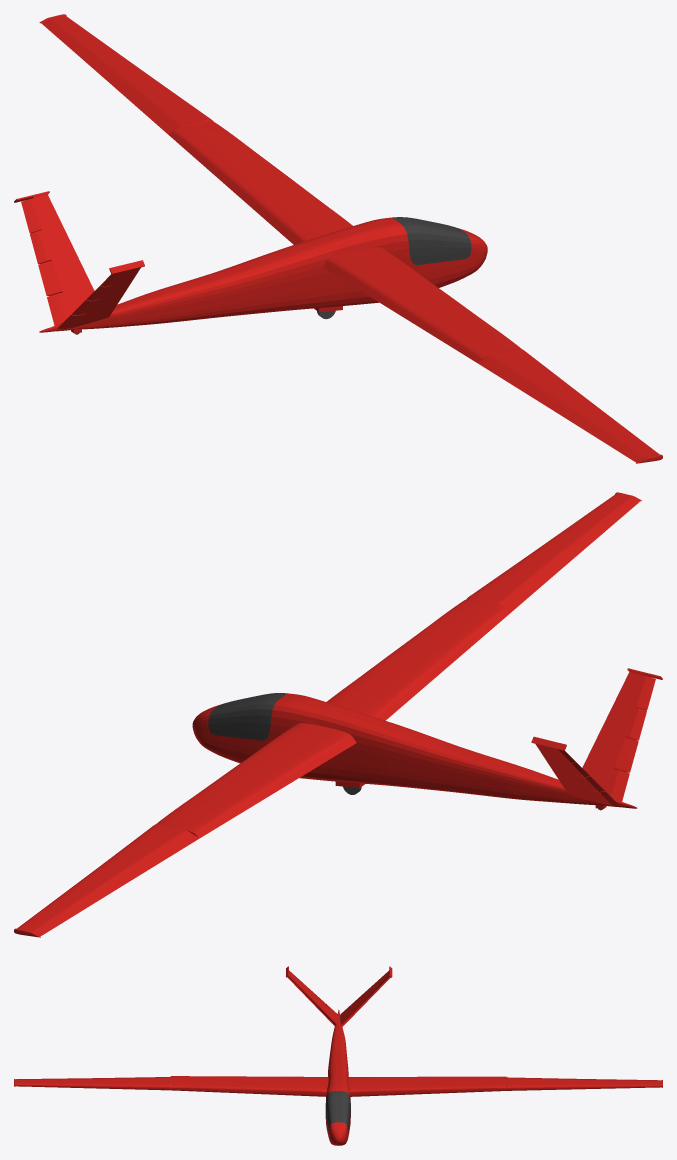
The model's file is samolot2.dae.
3 renders of one model, top to bottom at view 1: azimuth 30°, elevation 25°; view 2: azimuth 150°, elevation 25°; view 3: azimuth 270°, elevation 25°, orthographic. The views are drawn at different scales.
Parts seen in each view (by area): view 1: Cube; view 2: Cube; view 3: Cube.
Part boxes in pixels (x1=…): Cube: x1=14, y1=14, x2=662, y2=463; Cube: x1=14, y1=492, x2=662, y2=937; Cube: x1=14, y1=966, x2=662, y2=1145.
Bounding box in the file's own units: 32.07 × 74.68 × 10.16.
